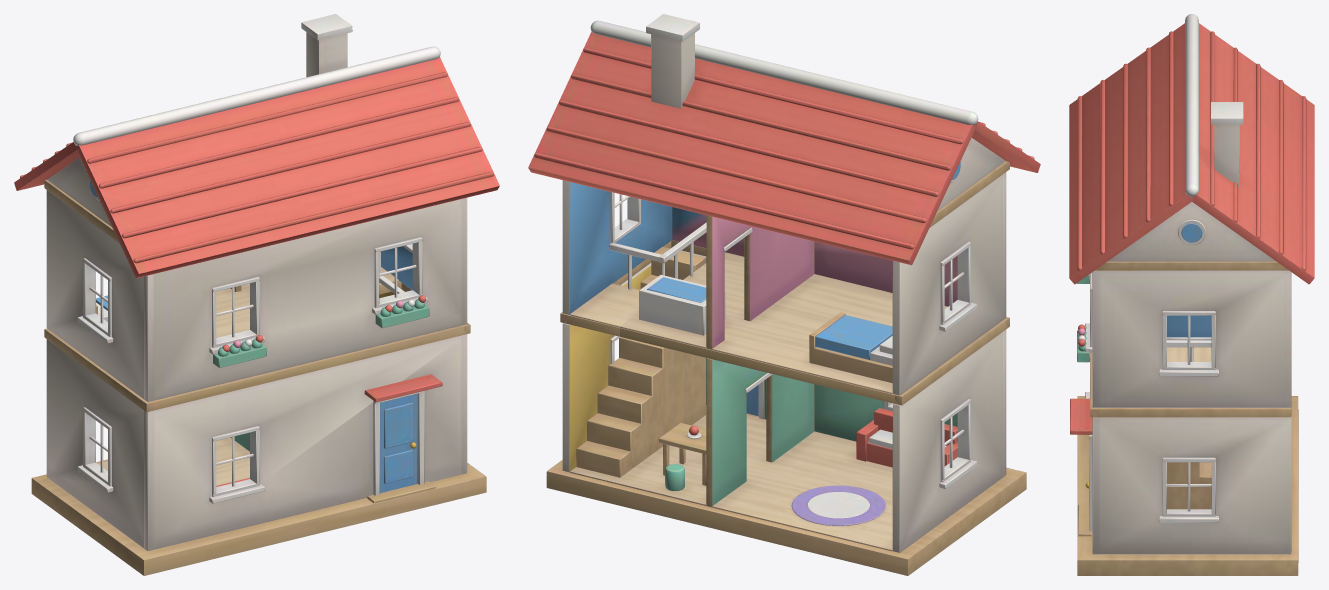
File: casa_munecas.glb
3 views of the same model, side by side, from view 1: azimuth 30°, elevation 25°; view 2: azimuth 150°, elevation 25°; view 3: azimuth 270°, elevation 25° (orthographic). The views are drawn at different scales.
Parts seen in each view (by area): view 1: doll-house_body; view 2: doll-house_body; view 3: doll-house_body.
Part boxes in pixels (x1=…): doll-house_body: x1=14, y1=14, x2=499, y2=575; doll-house_body: x1=528, y1=14, x2=1040, y2=575; doll-house_body: x1=1069, y1=14, x2=1314, y2=575.
Bounding box in the file's own units: 0.708 × 0.8015 × 0.419.
Materials: 1 (1 with a texture image).
